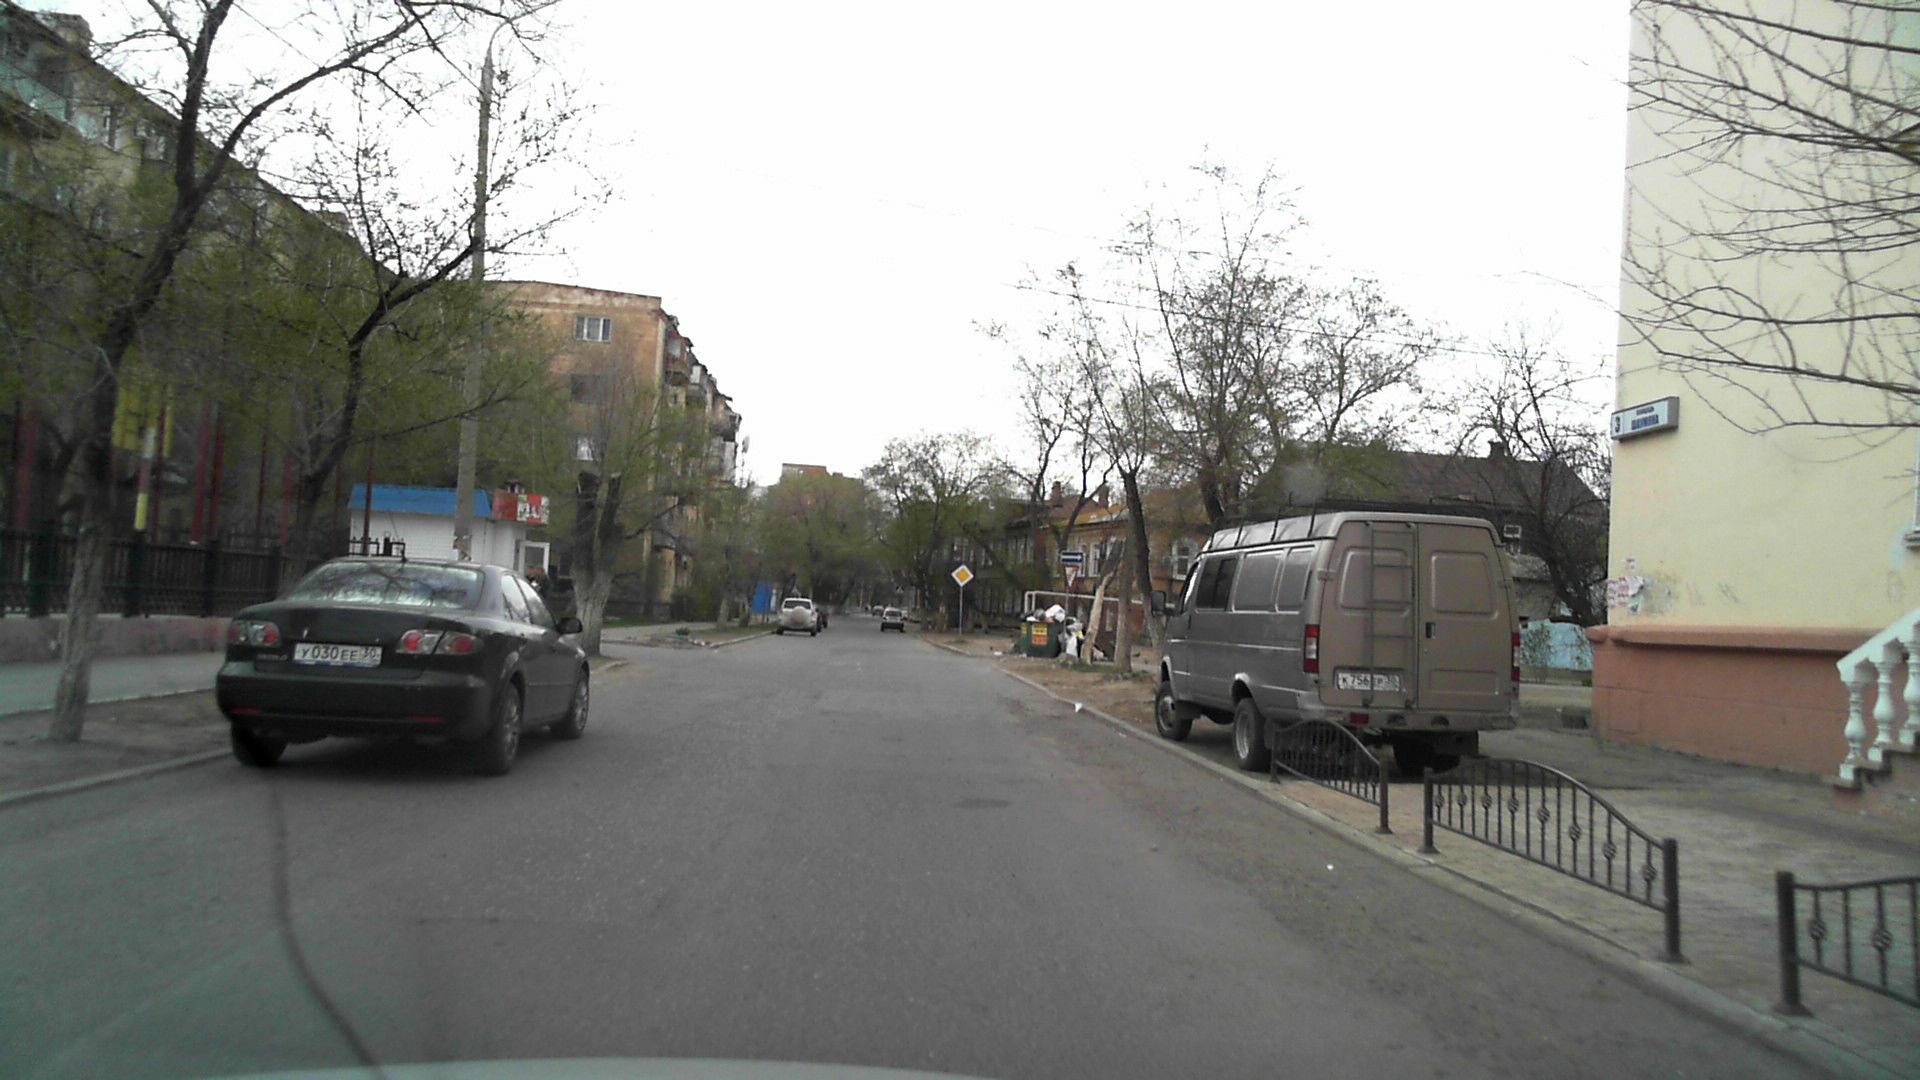One-Way Traffic: (1062, 553, 1084, 562)
